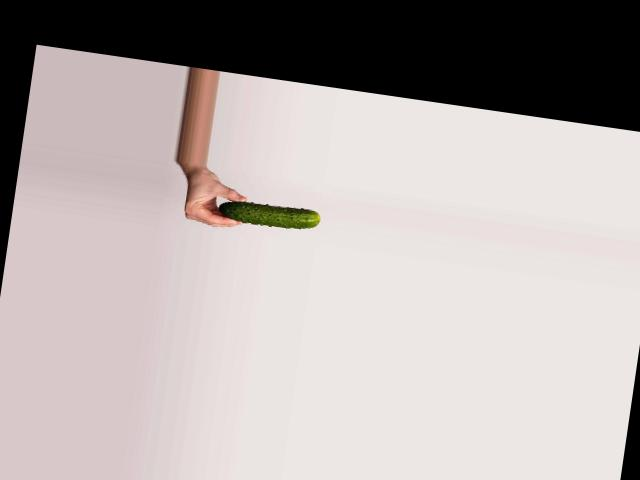cucumber: (217, 198, 320, 232)
